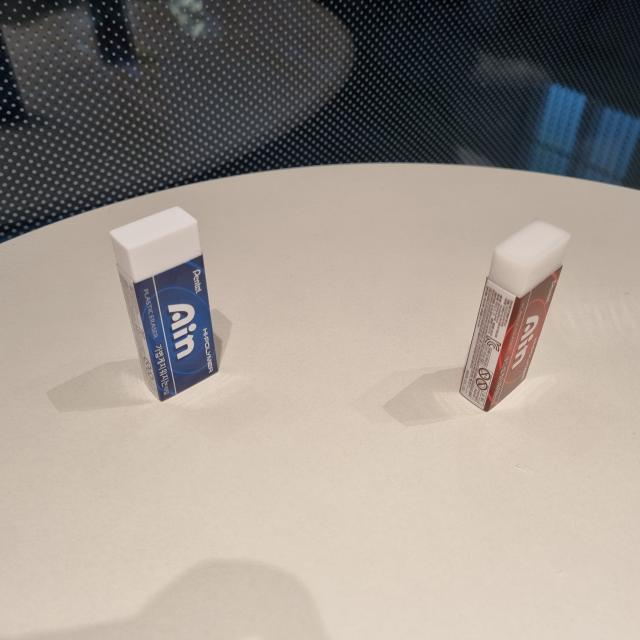blue: (106, 202, 225, 406)
red: (456, 218, 576, 415)
